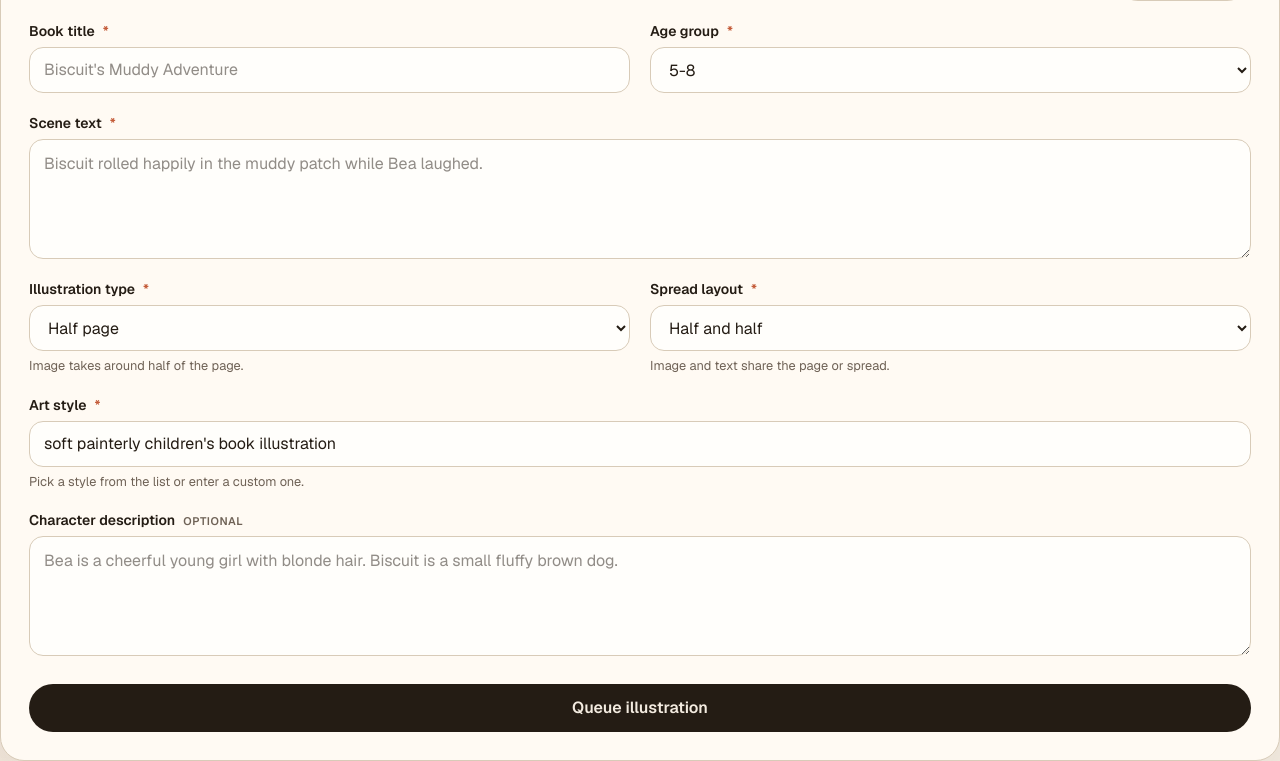
Scenario: CreateJobForm › shows validation errors when the required fields are empty
The width and height of the screenshot is (1280, 761).
(page scrolled)
Click the button "Queue illustration" at point(640, 708), box x1=29 y1=684 x2=1251 y2=732
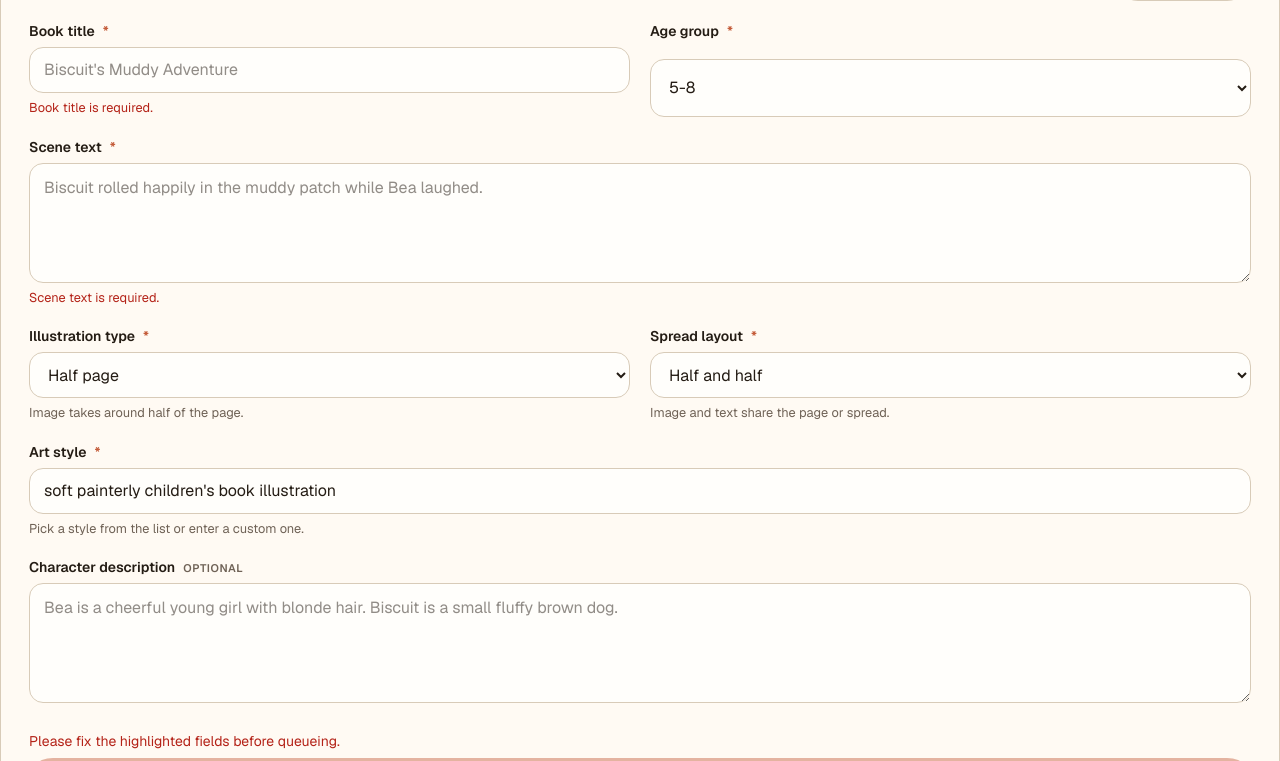
expect the text "Book title is required." is shown: met, box x1=29 y1=99 x2=153 y2=116
expect the text "Scene text is required." is shown: met, box x1=29 y1=289 x2=159 y2=306
expect the text "Please fix the highlighted fields before queueing." is shown: met, box x1=29 y1=732 x2=340 y2=750
